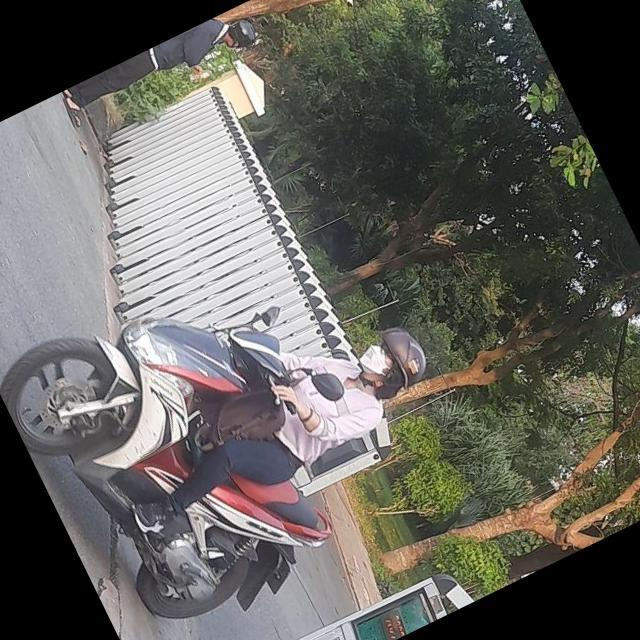WITH_HELMET: (373, 323, 437, 399)
